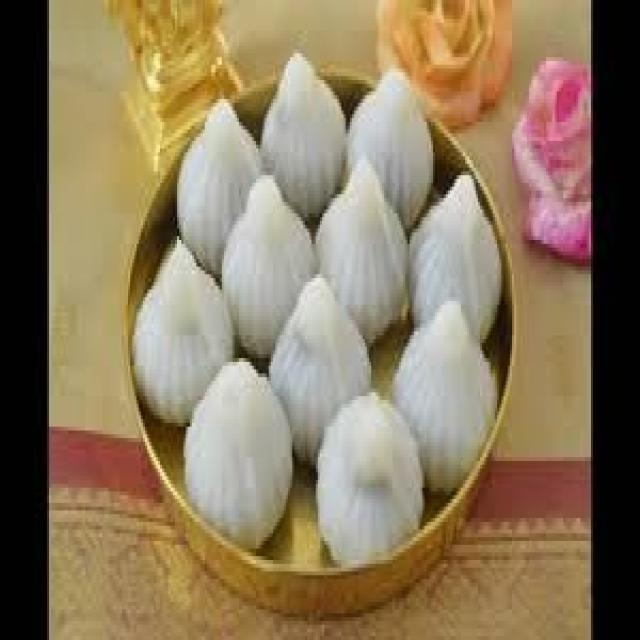poorna kolukattai: (148, 43, 501, 602)
